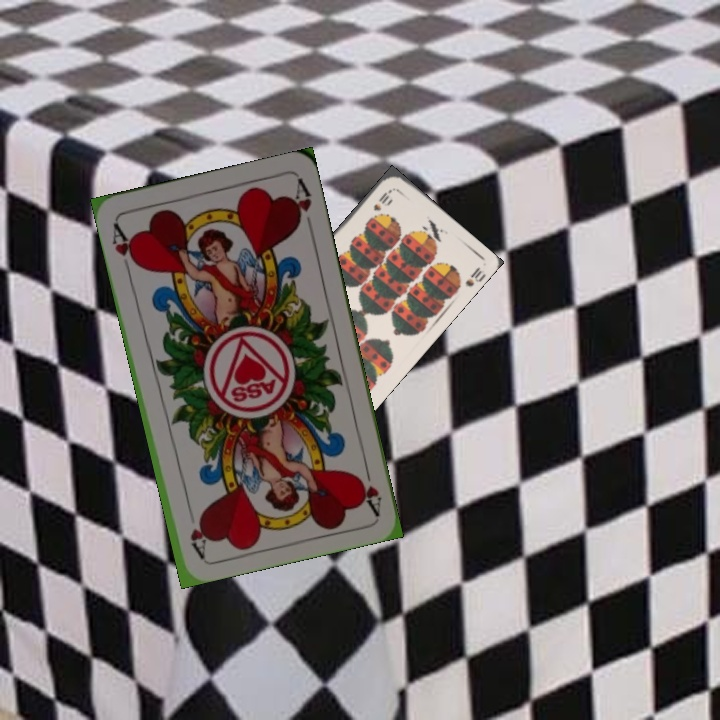HA: (108, 218, 141, 276), (353, 458, 384, 516)
S10: (369, 185, 395, 214)
